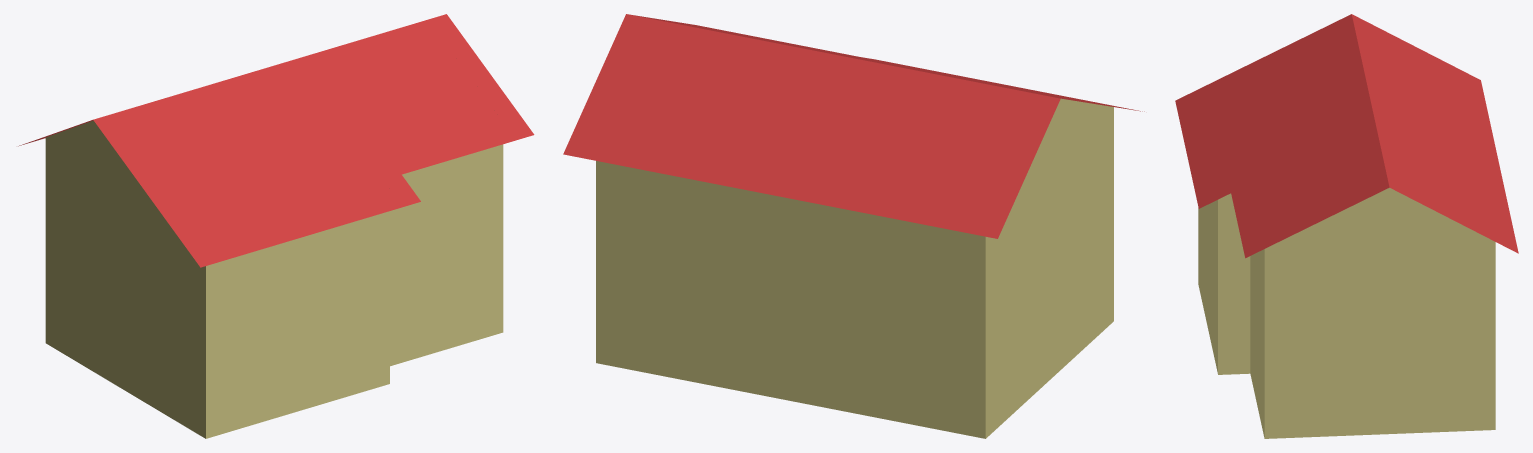
The picture shows the model from 3 angles, left to right: view 1: azimuth 30°, elevation 25°; view 2: azimuth 150°, elevation 25°; view 3: azimuth 270°, elevation 25°; orthographic projection. The views are drawn at different scales.
Size of the model in its own units: 15.34 by 12.09 by 9.92.
